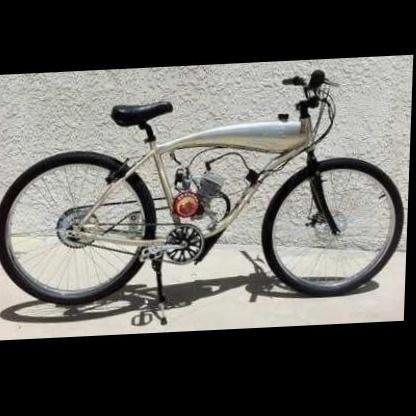Bicycle: (0, 62, 405, 319)
